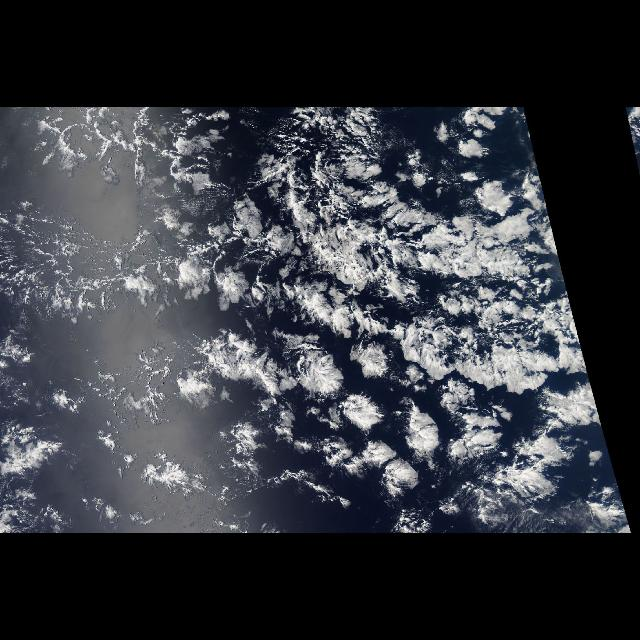Flower: (113, 166, 609, 522)
